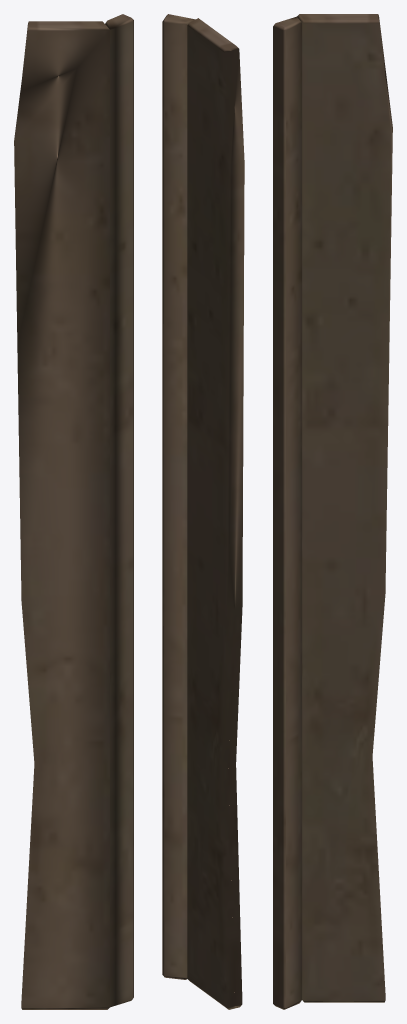
File: wall.frontier.corner.r.glb
3 renders of one model, left to right at view 1: azimuth 90°, elevation 25°; view 2: azimuth 210°, elevation 25°; view 3: azimuth 270°, elevation 25°, orthographic. The views are drawn at different scales.
Visible parts, largest first — view 1: model; view 2: model; view 3: model.
Part boxes in pixels (x1,y1,x2,y2): model: (14,14,133,1009); model: (162,14,244,1009); model: (273,14,392,1009).
Bounding box in the file's own units: 0.0983 × 3 × 0.3314.
1 material, 1 textured.
